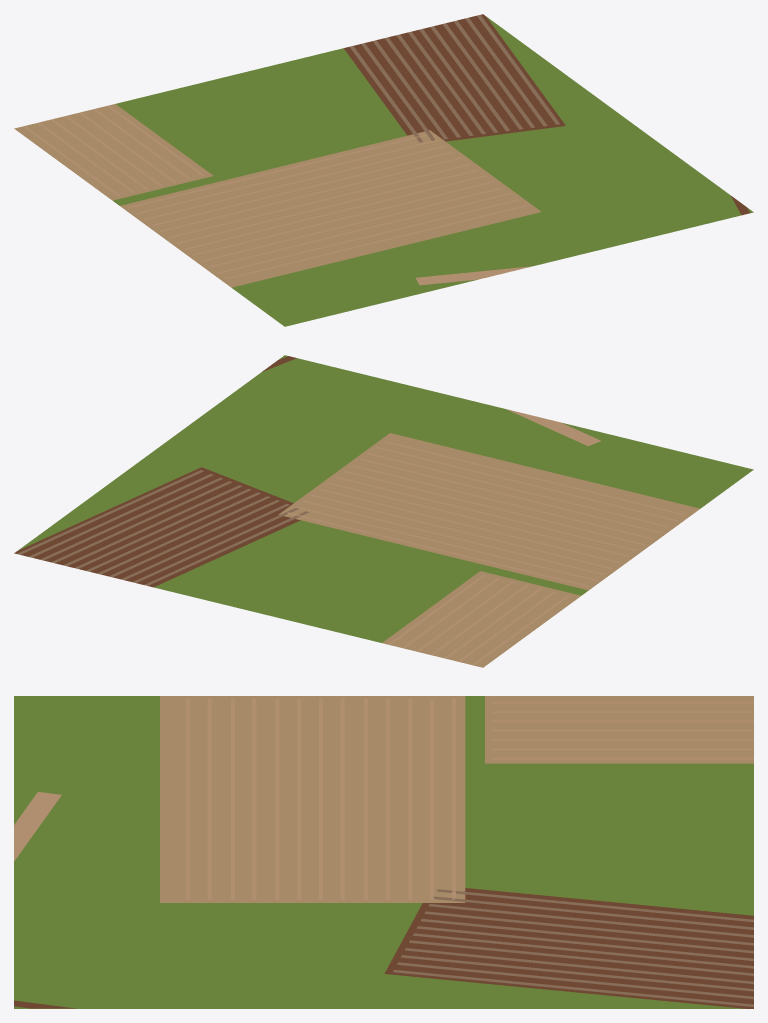
Rendered from crossing-1-1.glb.
3 renders of one model, top to bottom at view 1: azimuth 30°, elevation 25°; view 2: azimuth 150°, elevation 25°; view 3: azimuth 270°, elevation 25°, orthographic. The views are drawn at different scales.
Visible parts, largest first — view 1: crossing-1-1; view 2: crossing-1-1; view 3: crossing-1-1.
Boxes of the visible parts, x1=… form: crossing-1-1: x1=14, y1=14, x2=753, y2=326; crossing-1-1: x1=14, y1=355, x2=753, y2=667; crossing-1-1: x1=14, y1=696, x2=753, y2=1008.
Bounding box in the file's own units: 100 × 0.0072 × 100.
